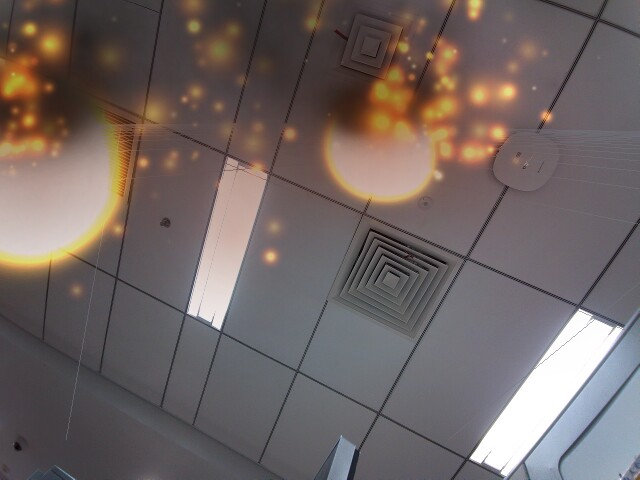fire: (0, 93, 139, 277), (322, 97, 435, 214)
